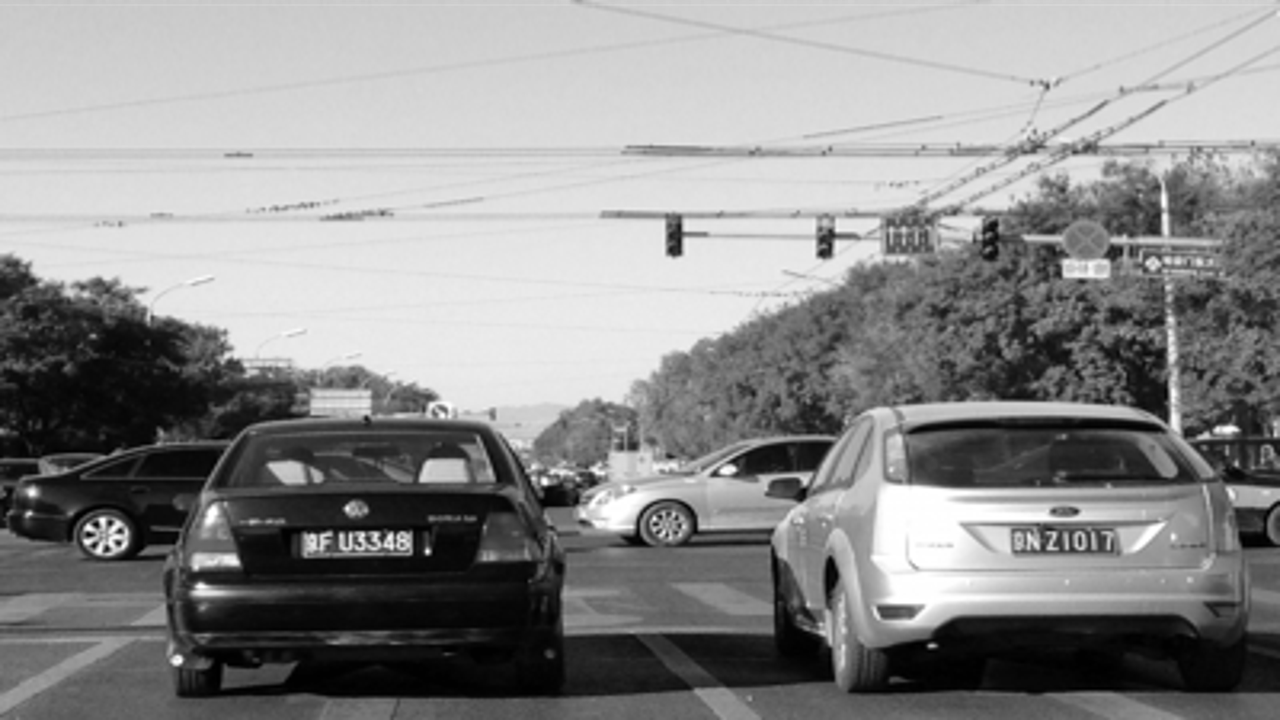license: (290, 524, 422, 562), (1005, 521, 1125, 561)
